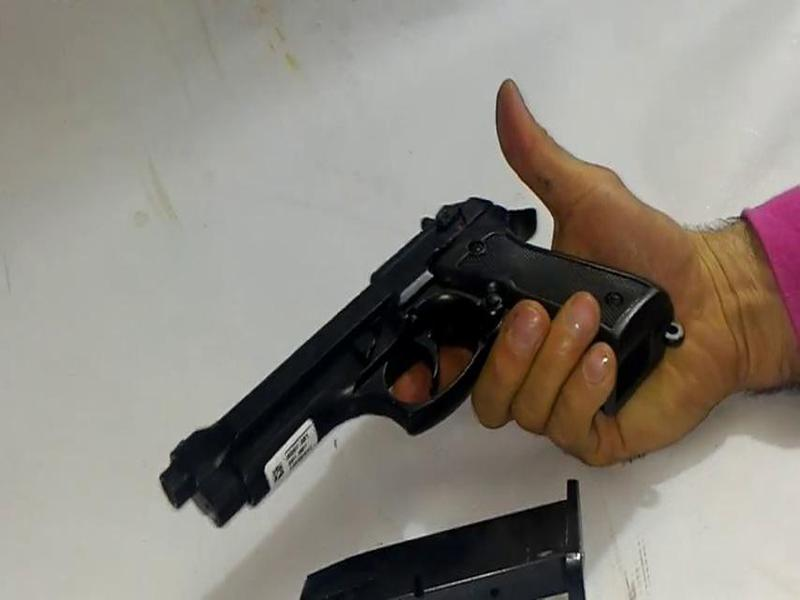Pistola: (135, 183, 699, 543)
